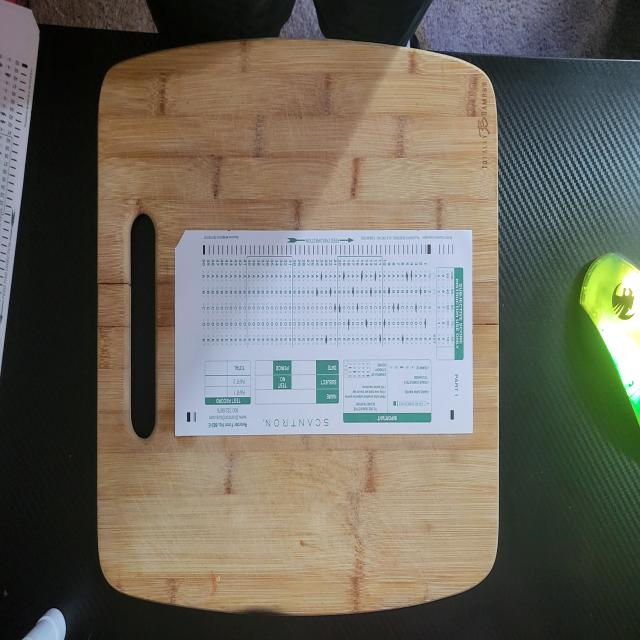scantron: (175, 229, 473, 435)
